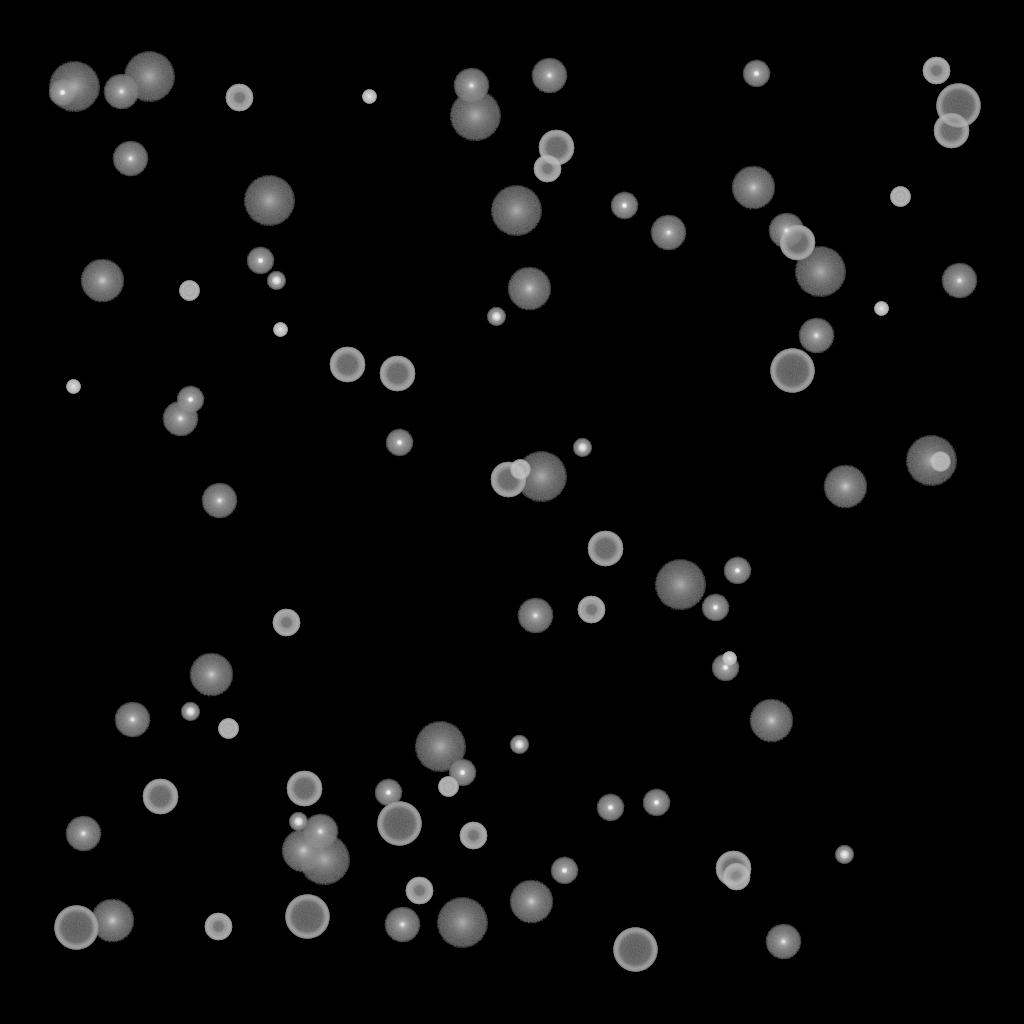depth:-10: (374, 779, 402, 807), (176, 386, 204, 414), (448, 759, 476, 787), (701, 594, 729, 622), (642, 789, 670, 817), (596, 794, 624, 822), (610, 192, 638, 220), (48, 79, 76, 107), (723, 557, 751, 585), (385, 429, 413, 457), (246, 247, 274, 275), (711, 654, 739, 682), (550, 857, 578, 885), (742, 60, 770, 88)
depth:-20: (181, 703, 199, 721), (487, 308, 505, 326), (835, 846, 853, 864), (510, 736, 528, 754), (267, 272, 285, 290), (573, 439, 591, 457), (289, 813, 307, 831)
depth:-30: (273, 323, 287, 337), (362, 90, 376, 104), (66, 380, 80, 394), (722, 652, 736, 666), (874, 302, 888, 316)
depth:-40: (218, 719, 238, 739), (438, 777, 458, 797), (930, 452, 950, 472), (890, 187, 910, 207), (510, 460, 530, 480), (179, 281, 199, 301)
depth:-50: (405, 877, 433, 905), (722, 863, 750, 891), (272, 609, 300, 637), (204, 913, 232, 941), (533, 155, 561, 183), (225, 84, 253, 112), (459, 822, 487, 850), (922, 57, 950, 85), (577, 596, 605, 624)
depth:-60: (933, 113, 969, 149), (286, 771, 322, 807), (715, 851, 751, 887), (329, 347, 365, 383), (142, 779, 178, 815), (538, 130, 574, 166), (490, 462, 526, 498), (779, 225, 815, 261), (587, 531, 623, 567), (379, 356, 415, 392)
depth:-70: (770, 349, 814, 393), (377, 802, 421, 846), (936, 84, 980, 128), (54, 906, 98, 950), (613, 928, 657, 972), (285, 895, 329, 939)
depth:0: (103, 74, 139, 110), (941, 263, 977, 299), (302, 814, 338, 850), (453, 68, 489, 104), (798, 318, 834, 354), (384, 907, 420, 943), (112, 141, 148, 177), (531, 58, 567, 94), (162, 401, 198, 437), (65, 816, 101, 852), (765, 924, 801, 960), (650, 215, 686, 251), (517, 598, 553, 634), (114, 702, 150, 738), (768, 213, 804, 249), (201, 483, 237, 519)
depth:10: (90, 899, 134, 943), (731, 166, 775, 210), (507, 267, 551, 311), (189, 653, 233, 697), (80, 259, 124, 303), (281, 829, 325, 873), (509, 880, 553, 924), (823, 465, 867, 509), (749, 699, 793, 743)
depth:20: (515, 452, 567, 502), (490, 186, 542, 236), (449, 91, 501, 141), (654, 560, 706, 610), (436, 898, 488, 948), (414, 722, 466, 772), (794, 247, 846, 297), (298, 835, 350, 885), (123, 52, 175, 102), (905, 436, 957, 486), (48, 62, 100, 112), (243, 176, 295, 226)
